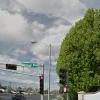Tree: (51, 5, 100, 100)
